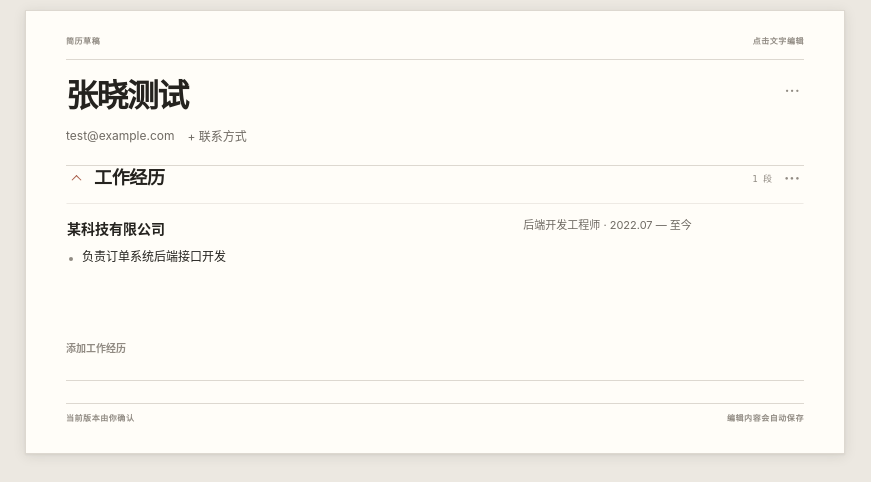
Test case: ResumeEditor › keeps identity editing contextual instead of showing a permanent form field
This screenshot has width=871, height=482.
What coordinates should you click on to do the following:
click the button with class "identity-name"
I would click on:
 (127, 97)
Its box is [66, 80, 188, 114].
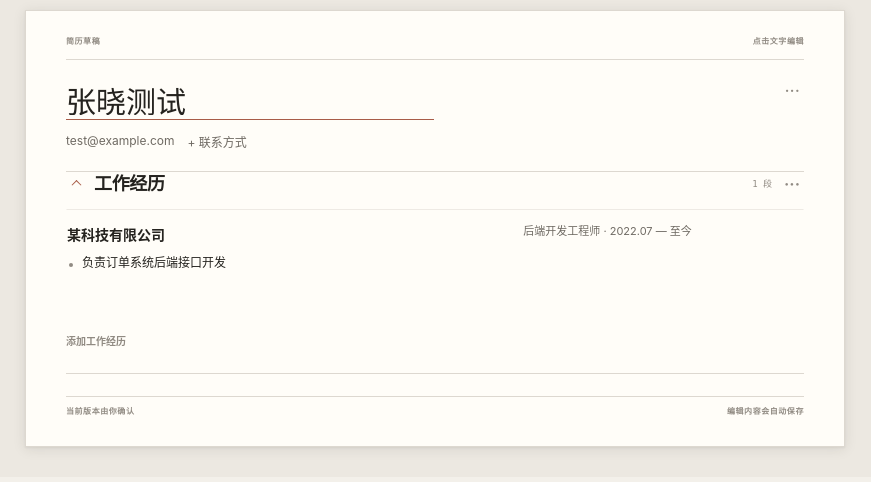
Expected: the element with class "identity-name-input" is shown, [66, 80, 434, 119]
